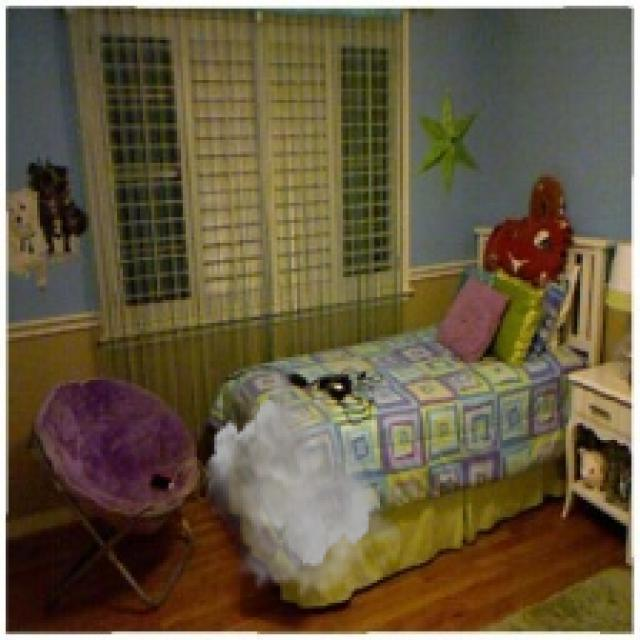Smoke: (203, 351, 406, 600)
